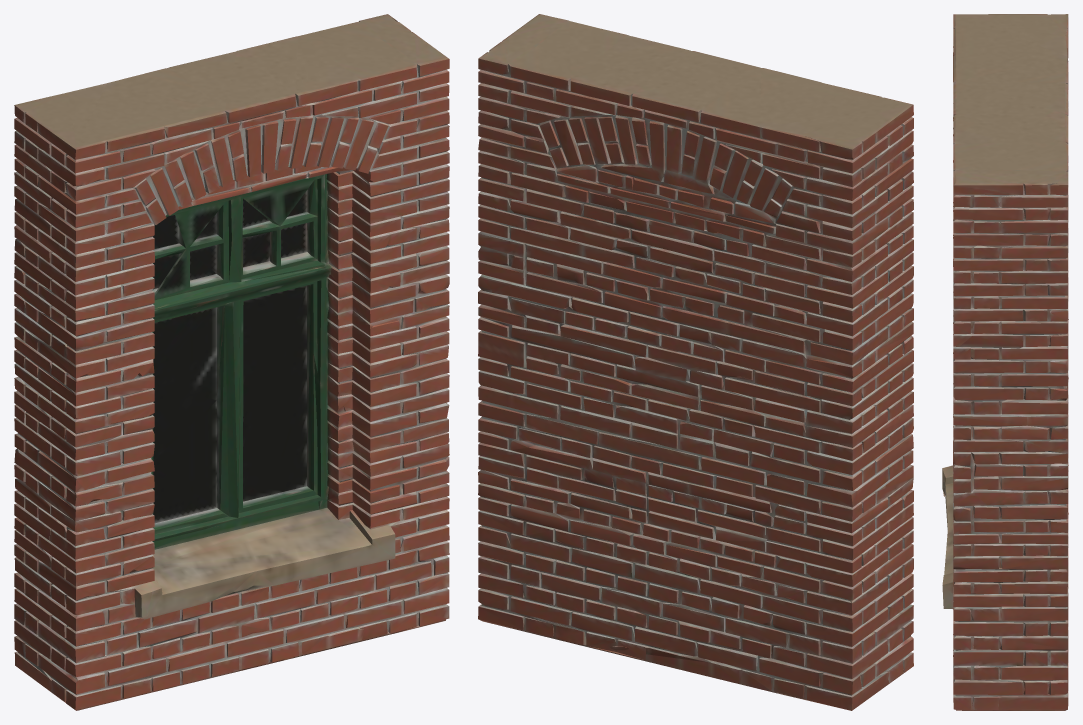
The model's file is g2_window_seg_b.glb.
3 renders of one model, left to right at view 1: azimuth 30°, elevation 25°; view 2: azimuth 150°, elevation 25°; view 3: azimuth 270°, elevation 25°, orthographic. The views are drawn at different scales.
Visible parts, largest first — view 1: main; view 2: main; view 3: main.
Part boxes in pixels (<box>): main: <box>14,14,449,710</box>; main: <box>478,14,913,710</box>; main: <box>942,14,1068,710</box>.
Size of the model in its own units: 1.56 by 2.24 by 0.4844.
1 material, 1 textured.
